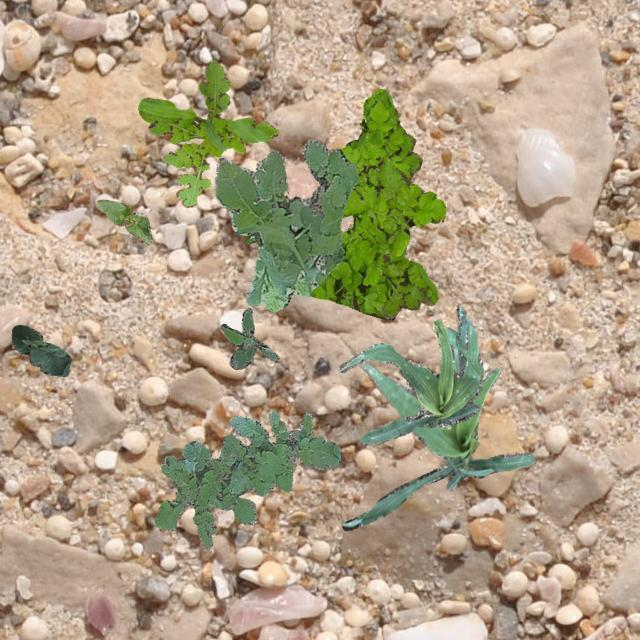crop: (342, 304, 534, 530), (338, 314, 481, 444), (10, 324, 70, 376), (96, 198, 152, 244)
weed: (308, 88, 422, 318), (154, 410, 338, 548), (215, 140, 358, 312), (136, 58, 278, 206), (342, 156, 444, 318), (220, 307, 278, 368), (243, 235, 257, 242)
